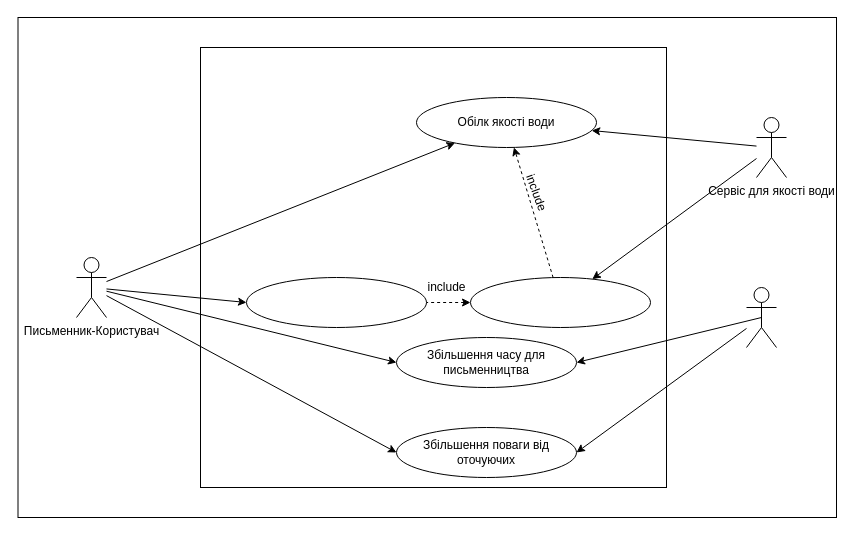
Image size: 854x535. Some labels were removed from this diagram. Here are the shapes that lost their labels. From the top down, the centre of each, then its label:
At (x=336, y=302): "Поліпшення якості води".
At (x=560, y=302): "Аналіз води на якість".
At (x=761, y=317): "Менеджер часу та психолог".
